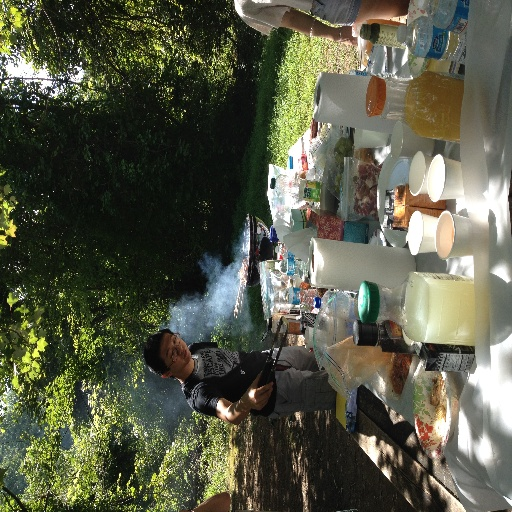hand: (242, 368, 274, 413), (337, 26, 357, 46)
